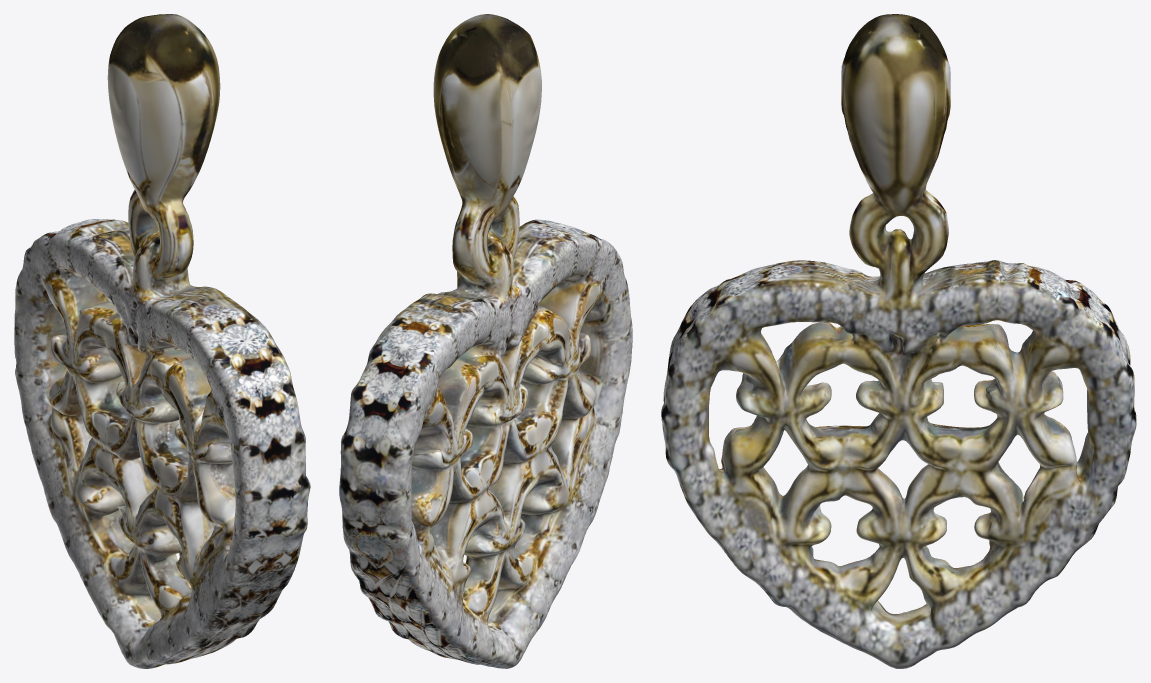
Rendered from JIS002.glb.
3 views of the same model, side by side, from view 1: azimuth 30°, elevation 25°; view 2: azimuth 150°, elevation 25°; view 3: azimuth 270°, elevation 25° (orthographic).
Parts seen in each view (by area): view 1: tripo_node_6dee0391-3e08-472b-82df-e565e790740c; view 2: tripo_node_6dee0391-3e08-472b-82df-e565e790740c; view 3: tripo_node_6dee0391-3e08-472b-82df-e565e790740c.
Part boxes in pixels (x1,y1,x2,y2): tripo_node_6dee0391-3e08-472b-82df-e565e790740c: [14, 14, 310, 668]; tripo_node_6dee0391-3e08-472b-82df-e565e790740c: [339, 14, 632, 668]; tripo_node_6dee0391-3e08-472b-82df-e565e790740c: [661, 14, 1136, 668].
Bounding box in the file's own units: 0.1383 × 0.8962 × 0.6027.
1 material, 1 textured.
